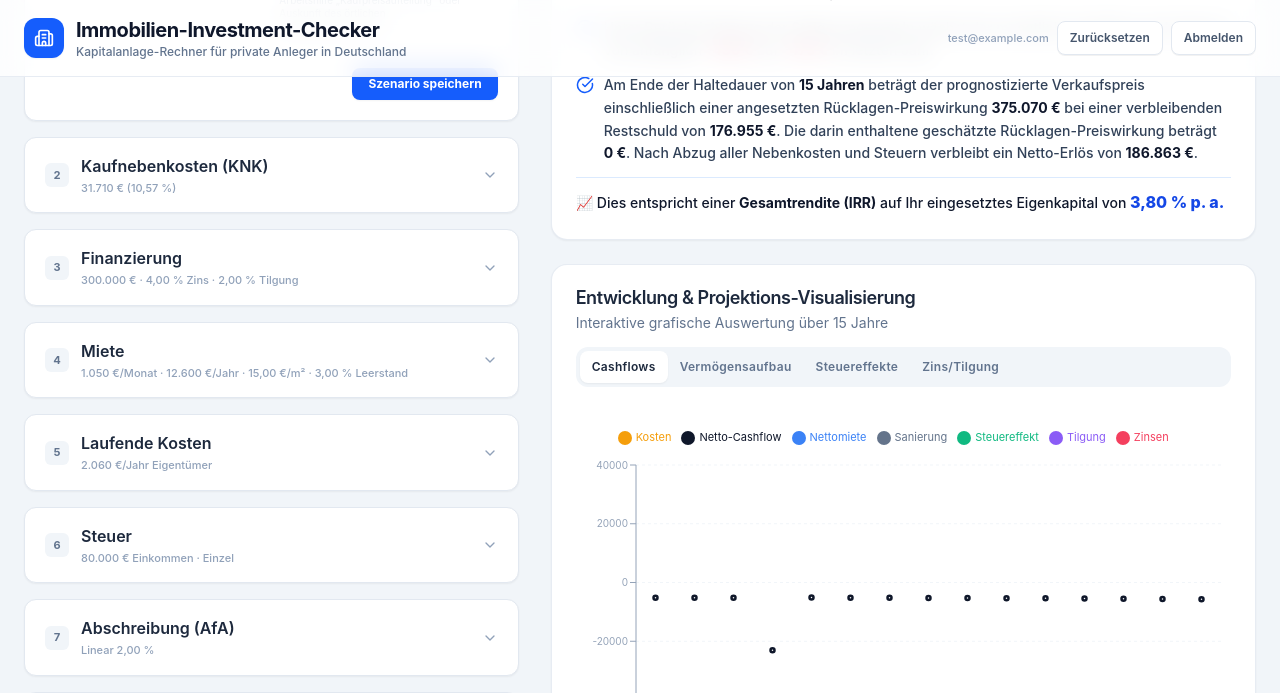
Test case: Dashboard-Jahresauswahl › zeigt markierte Modernisierungen als Prüfhinweis im Mietbereich
The width and height of the screenshot is (1280, 693).
(page scrolled)
What coordinates should you click on to do the following:
click the button "Miete"
I would click on:
 (103, 351)
Its box is [25, 323, 518, 397].
(page scrolled)
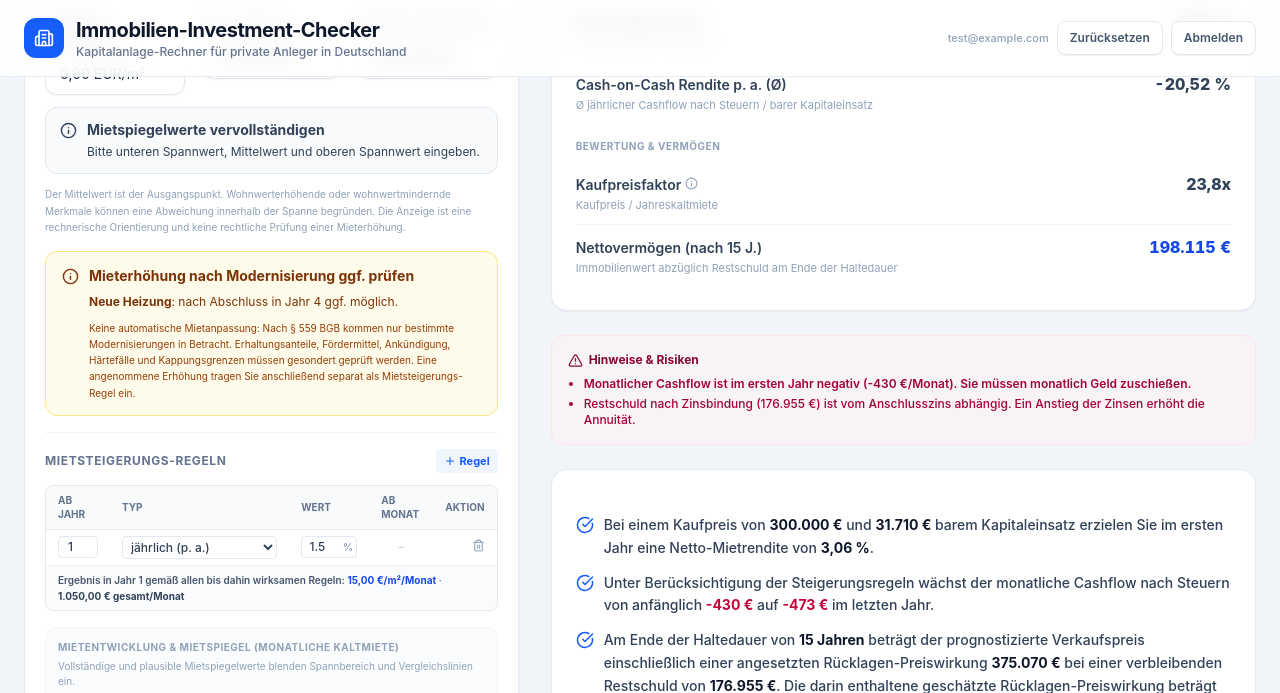
Expected: the text "Mieterhöhung nach Modernisierung ggf. prüfen" is shown, [89, 267, 414, 284]
Expected: the list item "Neue Heizung" is shown, [89, 294, 172, 309]
Expected: the list item "Neue Heizung" reads "Neue Heizung: nach Abschluss in Jahr 4 ggf. möglich.", [89, 294, 398, 309]
